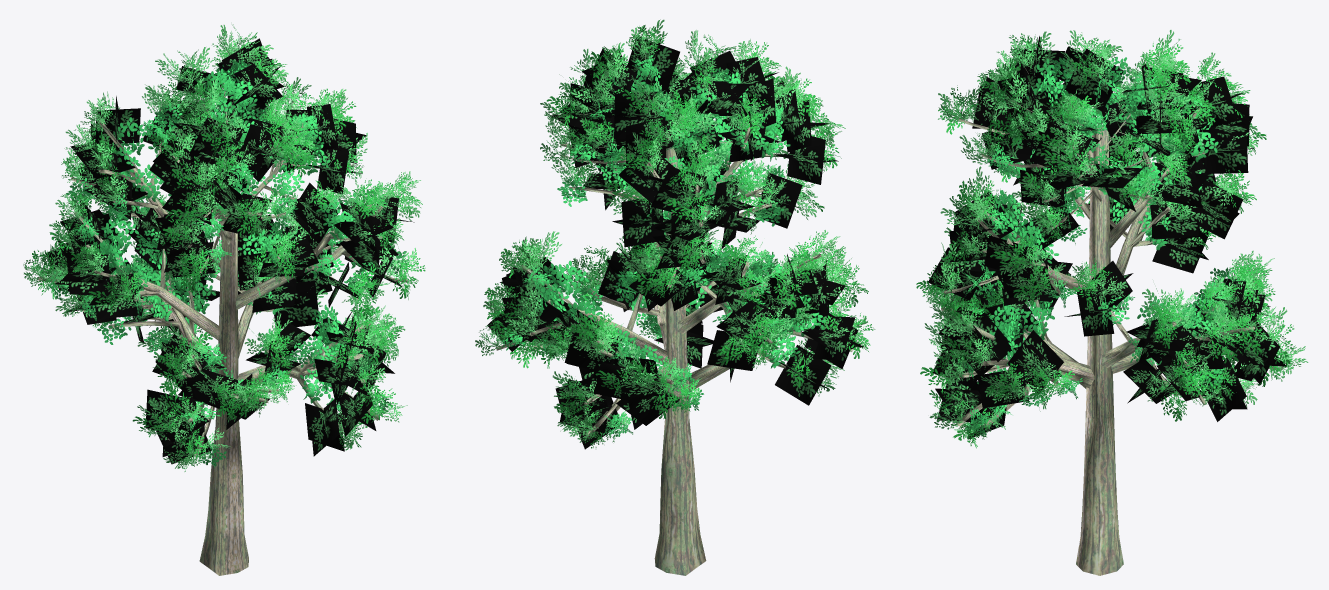
File: animetree_jabami_02_mesh.fbx
3 views of the same model, side by side, from view 1: azimuth 30°, elevation 25°; view 2: azimuth 150°, elevation 25°; view 3: azimuth 270°, elevation 25° (orthographic). The views are drawn at different scales.
Visible parts, largest first — view 1: ..\..\users\hp-touch\documents\treeitsave\texture\tron_tree_; view 2: ..\..\users\hp-touch\documents\treeitsave\texture\tron_tree_; view 3: ..\..\users\hp-touch\documents\treeitsave\texture\tron_tree_.
Boxes of the visible parts, x1,y1,x2,y2 form: ..\..\users\hp-touch\documents\treeitsave\texture\tron_tree_: (23, 24, 425, 575); ..\..\users\hp-touch\documents\treeitsave\texture\tron_tree_: (475, 19, 875, 575); ..\..\users\hp-touch\documents\treeitsave\texture\tron_tree_: (916, 30, 1308, 575).
Bounding box in the file's own units: 927 × 1419 × 943.
Materials: 5 (5 with a texture image).
